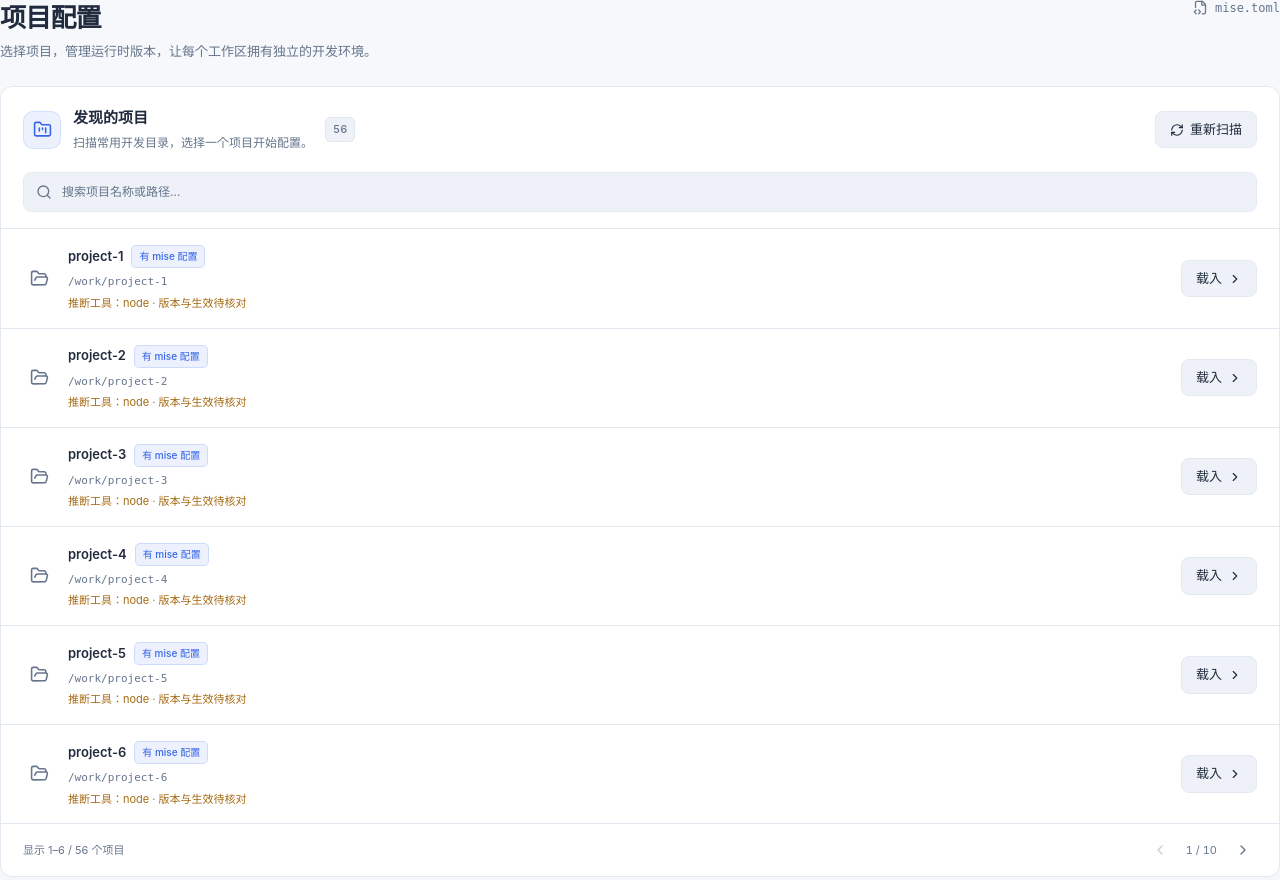
Test: 项目发现与编辑流程 › 分页显示完整项目集合，搜索能找到第 50 项之后的项目
The image size is (1280, 880).
Expected: the button with aria-label "载入 project-1" is shown, [1181, 260, 1257, 297]
Click the button named "下一页项目" at (1243, 850), box [1229, 836, 1257, 864]
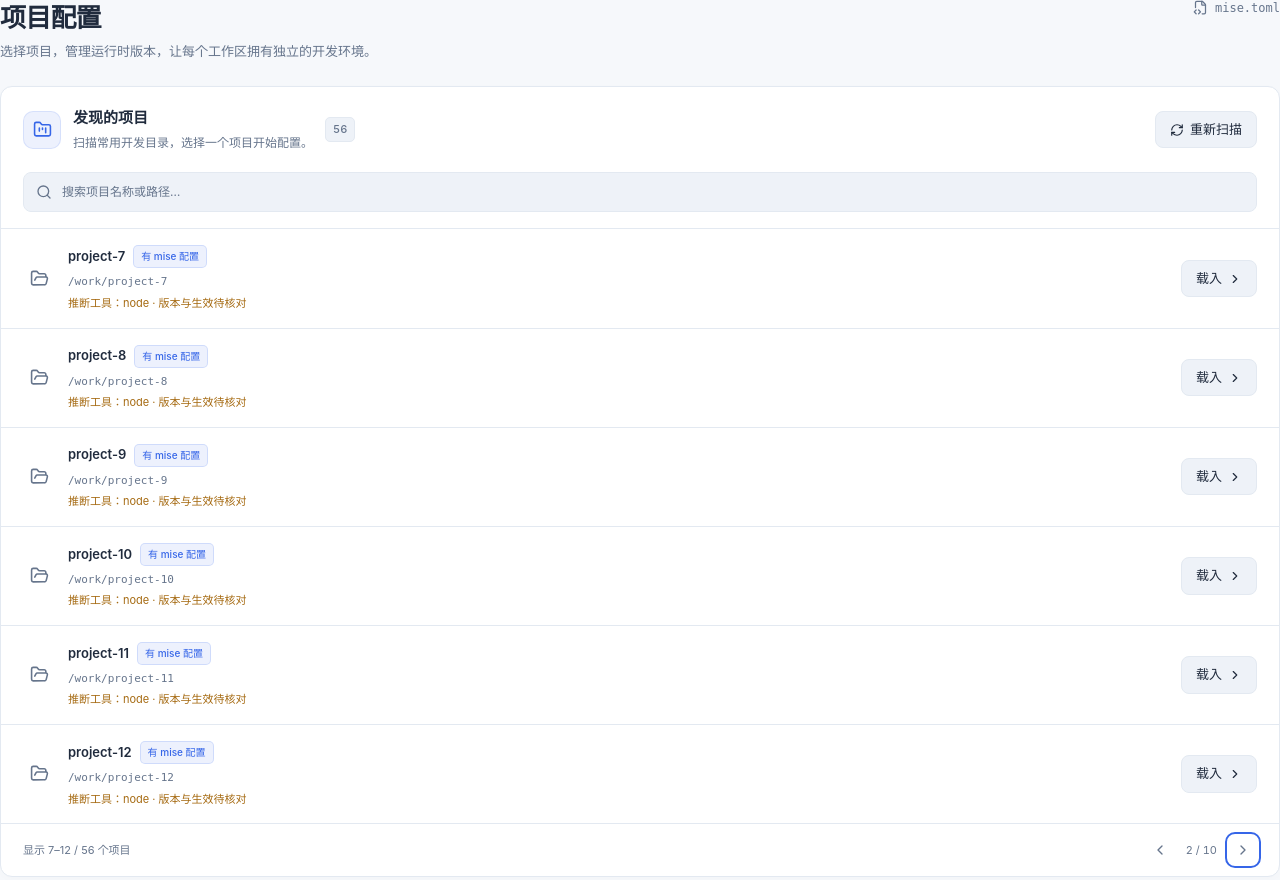
Expected: the button with aria-label "载入 project-7" is shown, [1181, 260, 1257, 297]
Type "project-56" into the search field labelled "搜索项目名称或路径" at (653, 192), box [62, 174, 1244, 212]
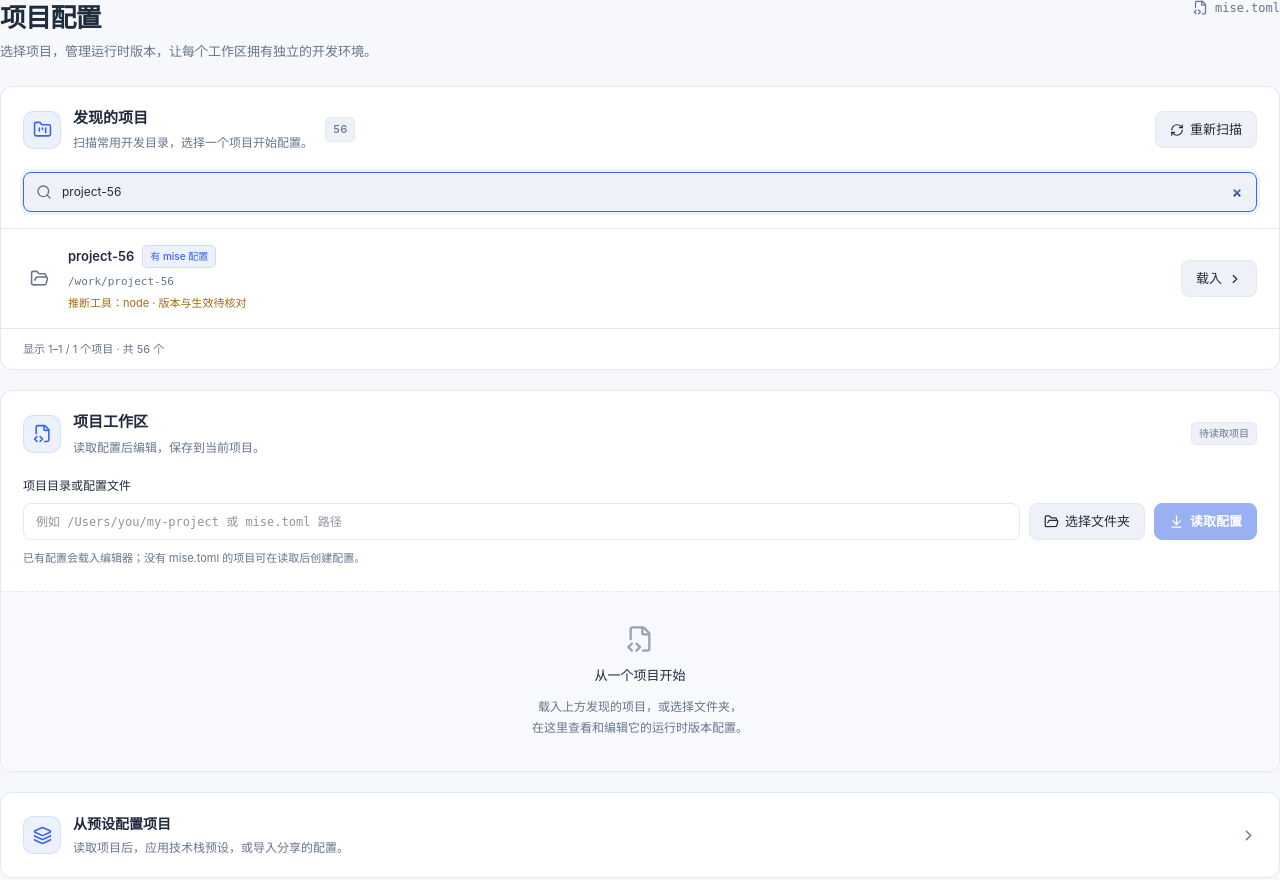
Expected: the button with aria-label "载入 project-56" is shown, [1181, 260, 1257, 297]
Replace the text in the search field named "搜索项目名称或路径" with "不存在的项目" at (653, 192), box [62, 174, 1244, 212]
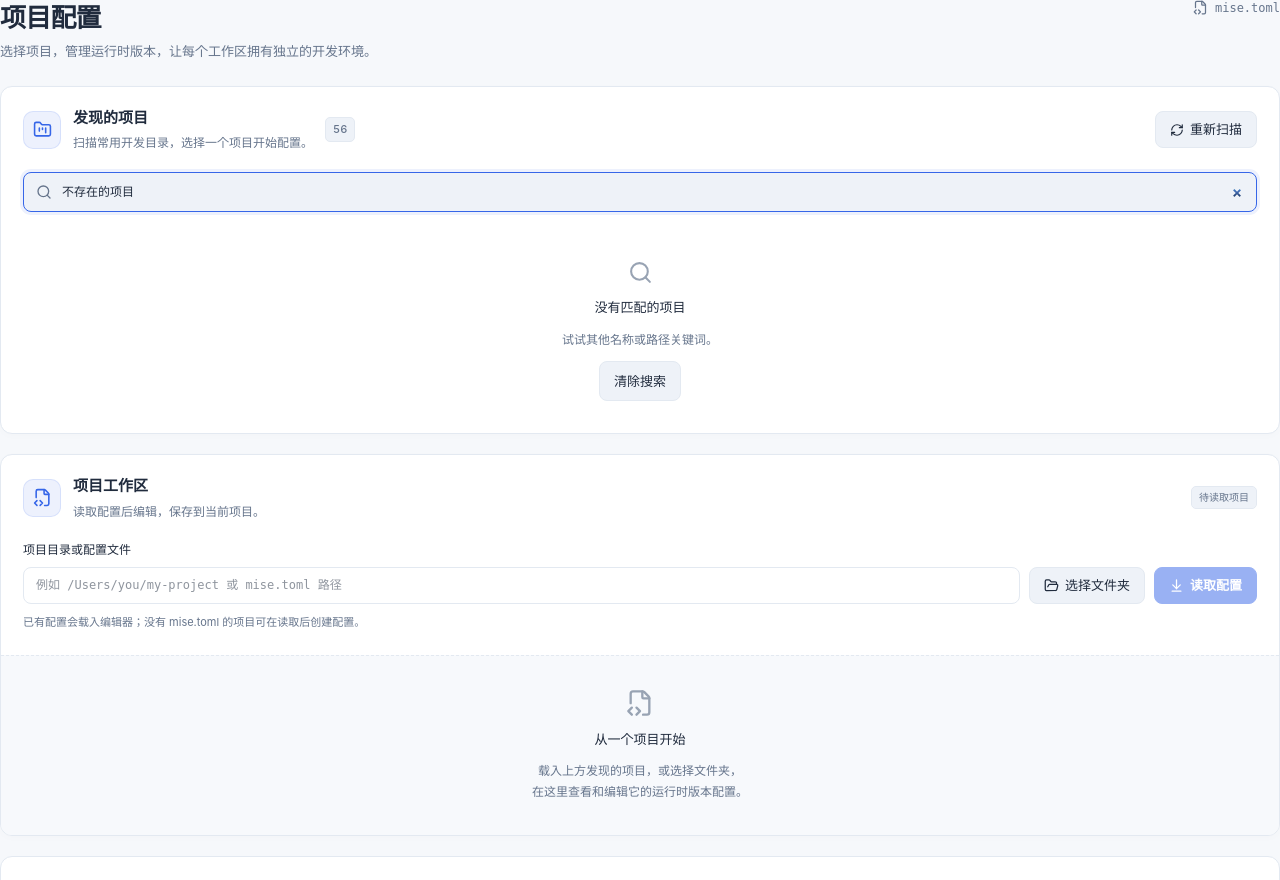
Result: the text "没有匹配的项目" is shown at [594, 296, 686, 319]
Click the button "清除搜索" at (640, 381), box [599, 361, 681, 401]
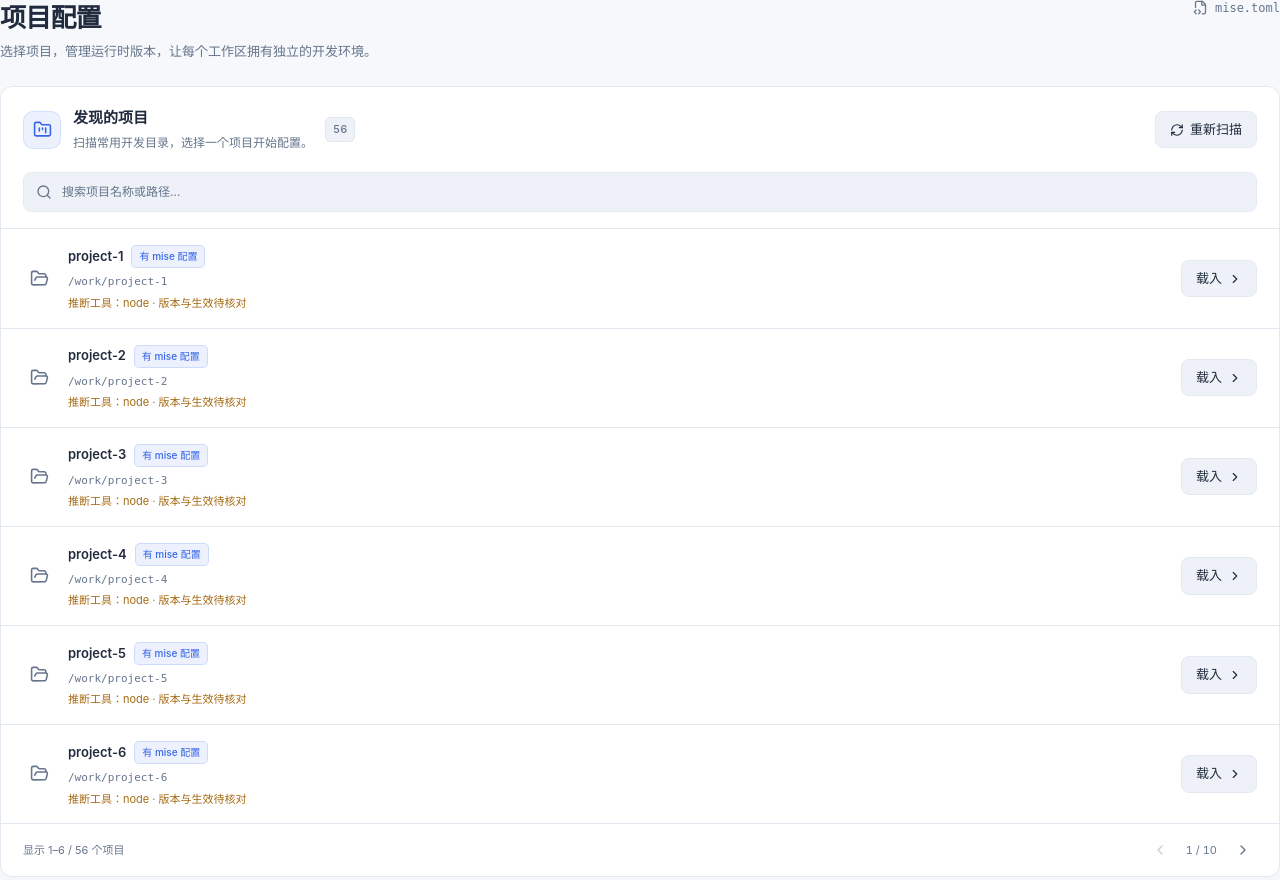
Result: the button with aria-label "载入 project-1" is shown at [1181, 260, 1257, 297]
